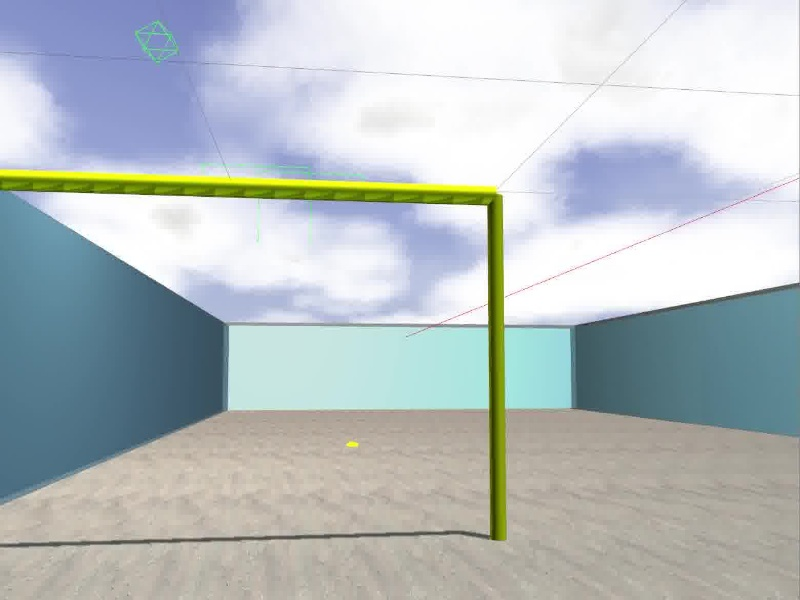gate: (1, 166, 510, 545)
